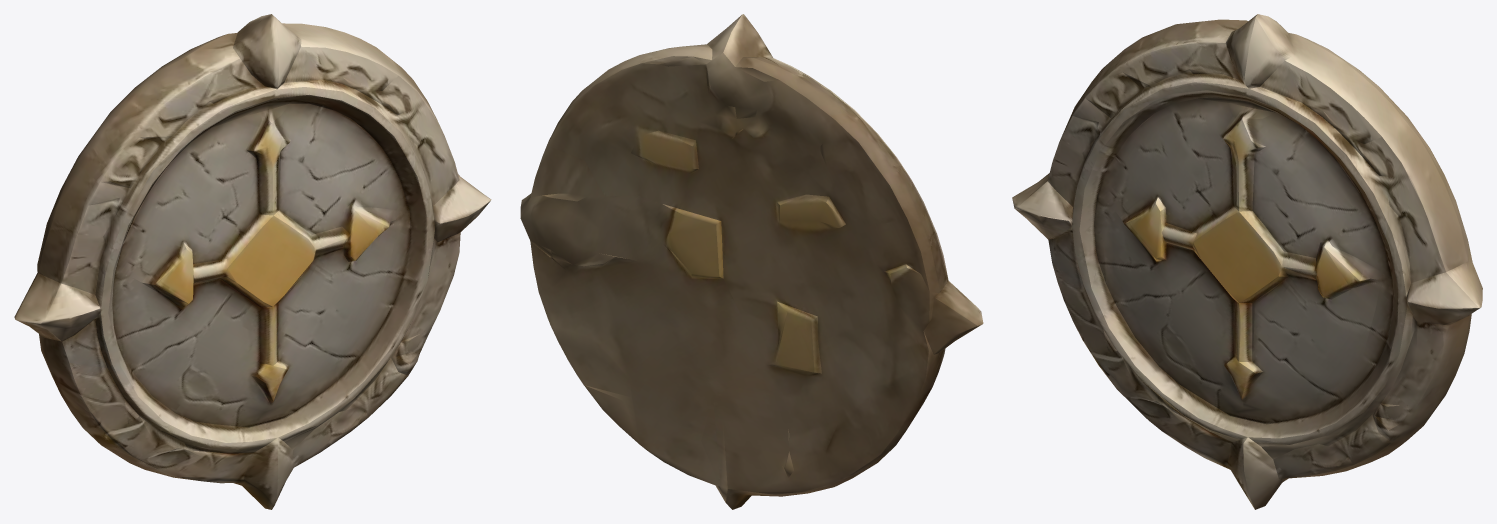
Rendered from m2WallRunMarker.glb.
The picture shows the model from 3 angles, left to right: view 1: azimuth 30°, elevation 25°; view 2: azimuth 150°, elevation 25°; view 3: azimuth 330°, elevation 25°; orthographic projection.
Visible parts, largest first — view 1: model; view 2: model; view 3: model.
Boxes of the visible parts, x1,y1,x2,y2 form: model: [14, 14, 491, 509]; model: [520, 14, 983, 509]; model: [1012, 14, 1482, 509].
Bounding box in the file's own units: 1.89 × 1.9 × 0.243.
Materials: 1 (1 with a texture image).
